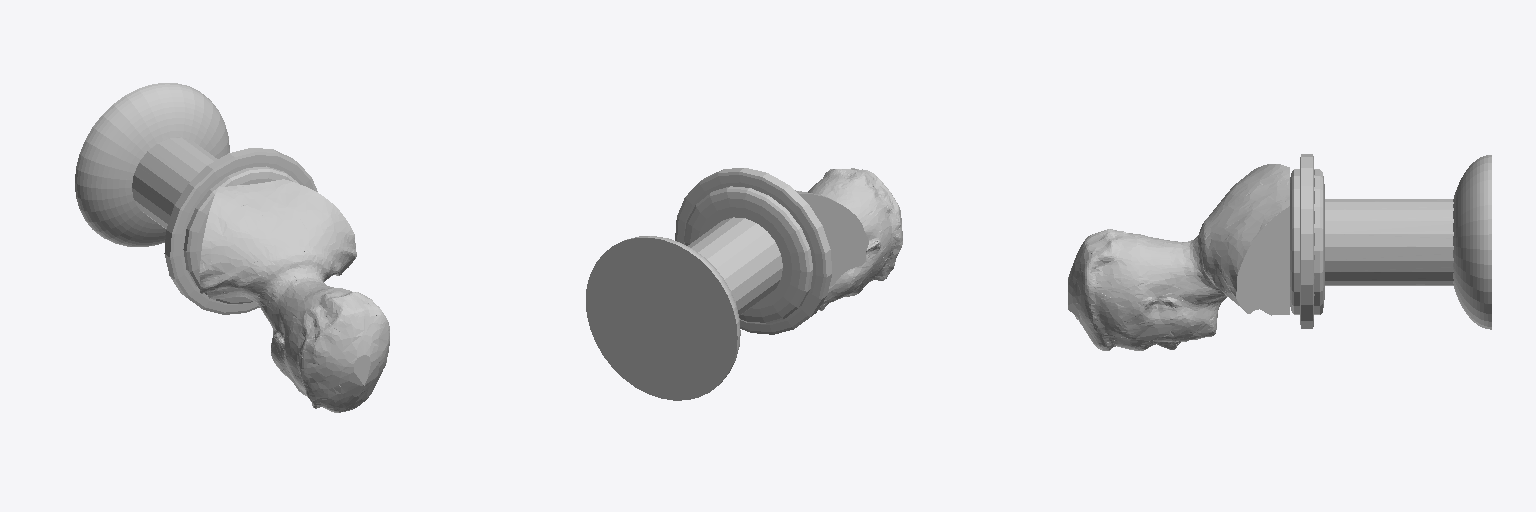
The model's file is carlos_head.obj.
3 renders of one model, left to right at view 1: azimuth 30°, elevation 25°; view 2: azimuth 150°, elevation 25°; view 3: azimuth 270°, elevation 25°, orthographic.
Visible parts, largest first — view 1: obj_0; view 2: obj_0; view 3: obj_0.
Boxes of the visible parts, x1,y1,x2,y2 form: obj_0: [75, 83, 389, 412]; obj_0: [586, 168, 902, 400]; obj_0: [1068, 154, 1491, 350].
Bounding box in the file's own units: 8.6 × 9.78 × 20.